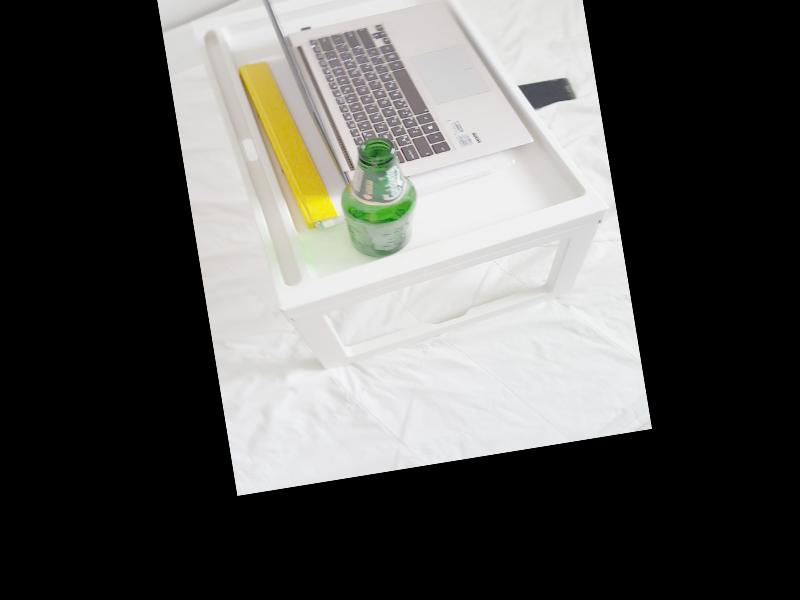Beer: (332, 134, 423, 262)
